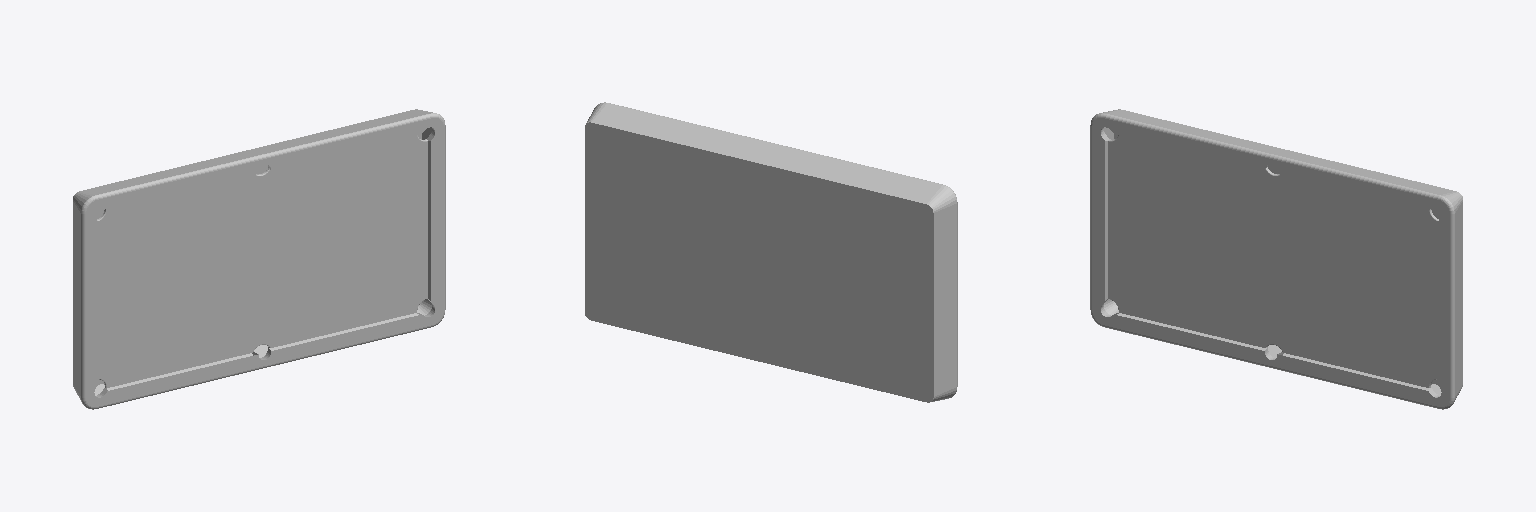
The model's file is old_merge_no_cushions_tri.obj.
3 views of the same model, side by side, from view 1: azimuth 30°, elevation 25°; view 2: azimuth 150°, elevation 25°; view 3: azimuth 330°, elevation 25° (orthographic).
Visible parts, largest first — view 1: slate.002, rails.002, casing.002, liners.002; view 2: casing.002; view 3: slate.002, rails.002, casing.002, liners.002.
Part boxes in pixels (x1,y1,x2,y2): slate.002: (97,135,427,387); rails.002: (86,118,443,406); casing.002: (73,109,445,409); liners.002: (92,125,437,399); casing.002: (585,102,957,402); slate.002: (1108,135,1438,387); rails.002: (1092,118,1449,406); casing.002: (1090,109,1462,409); liners.002: (1098,125,1443,399).
Size of the model in its own units: 2.9 by 1.63 by 0.2463.